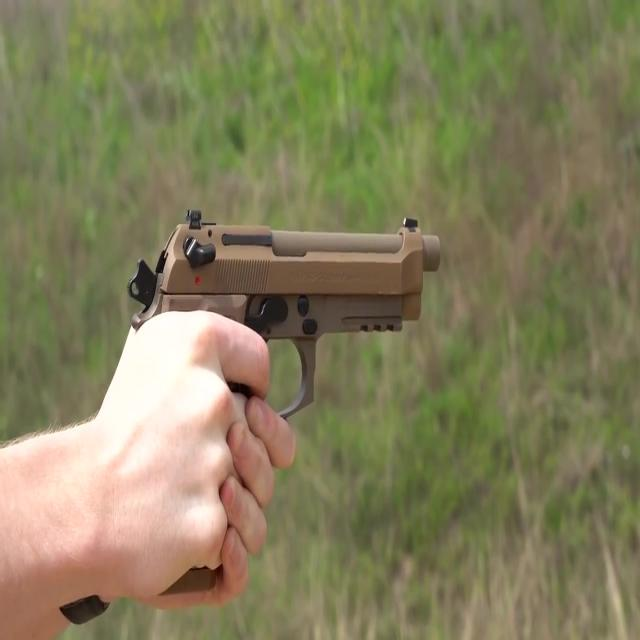Weapon: (97, 150, 447, 609)
